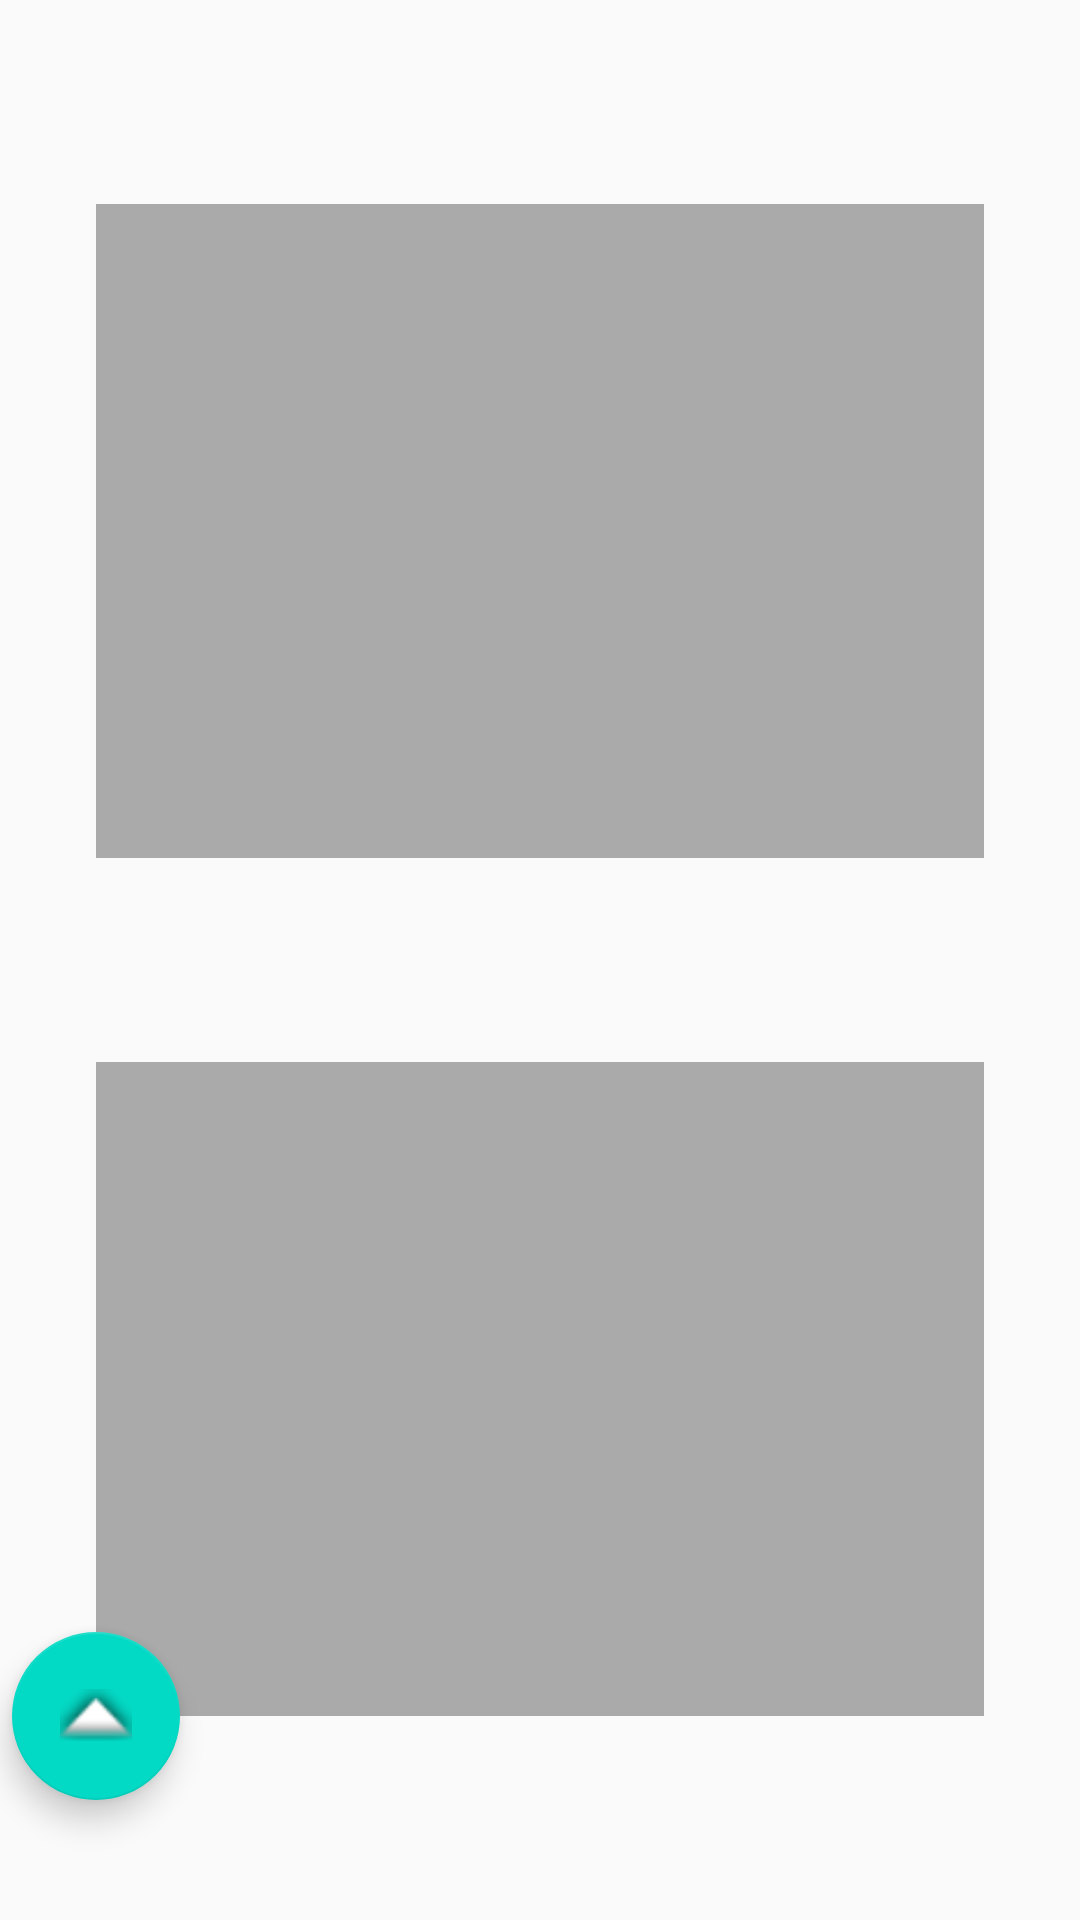

Icons on this 1080 x 1920 Android screen, each with the point to tap as [x,y]:
arrow up float: [96,1716]
